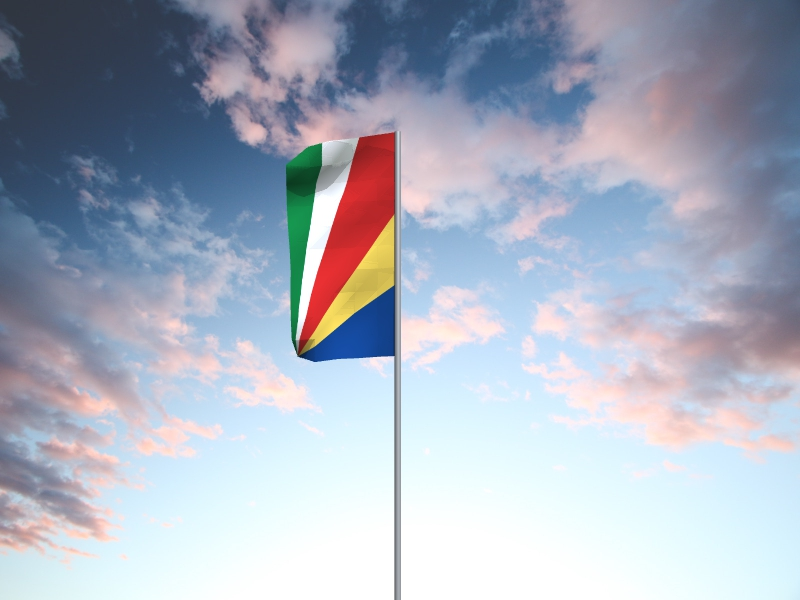sc: (285, 133, 394, 364)
